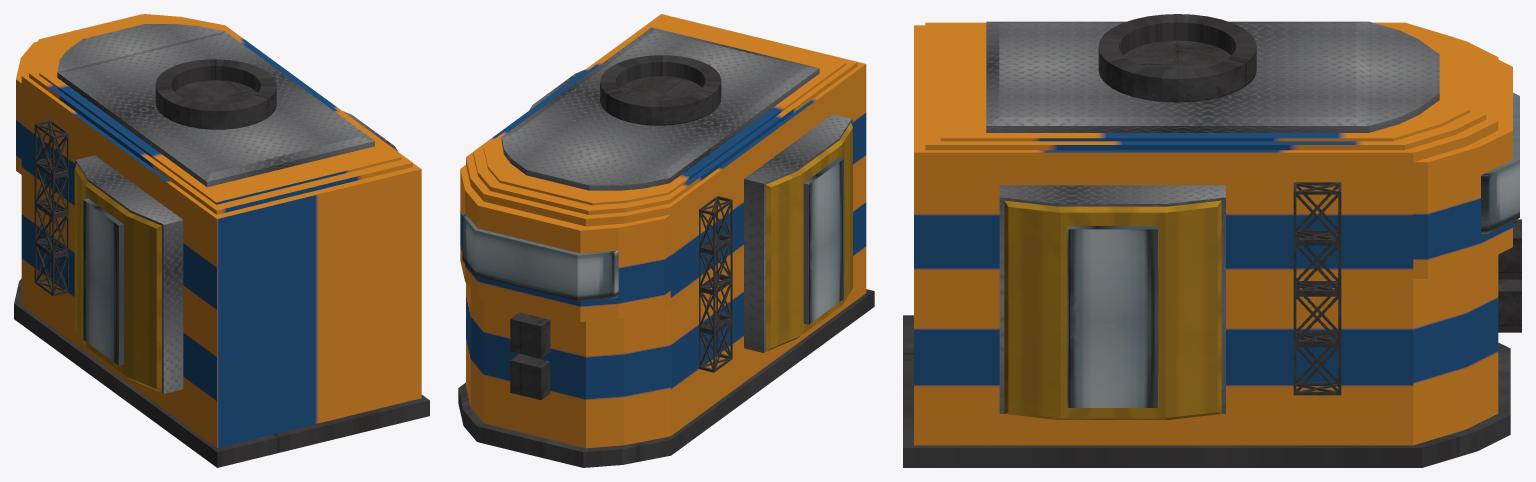
Rendered from train-engine_3.fbx.
3 views of the same model, side by side, from view 1: azimuth 30°, elevation 25°; view 2: azimuth 150°, elevation 25°; view 3: azimuth 270°, elevation 25° (orthographic). The views are drawn at different scales.
Parts seen in each view (by area): view 1: Cube.066; view 2: Cube.066; view 3: Cube.066.
Boxes of the visible parts, left/top/right/bottom form: Cube.066: left=14, top=14, right=429, bottom=467; Cube.066: left=458, top=14, right=874, bottom=467; Cube.066: left=903, top=14, right=1521, bottom=467.
Size of the model in its own units: 235 by 222 by 351.
